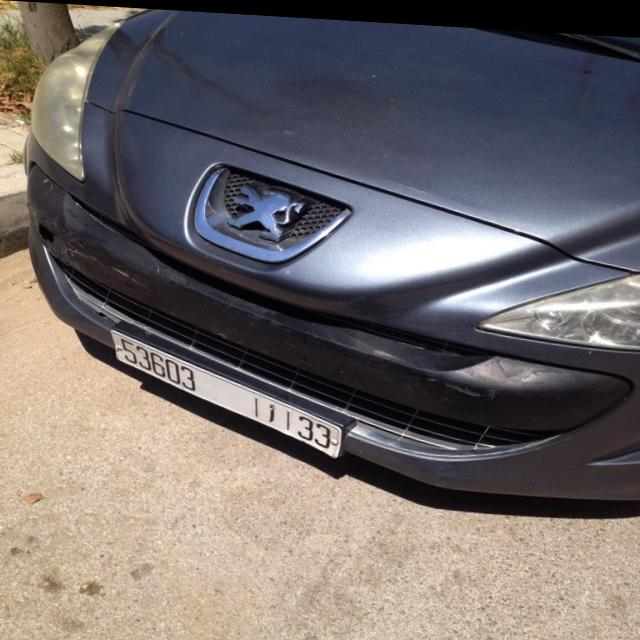License-Plate: (112, 329, 343, 453)
